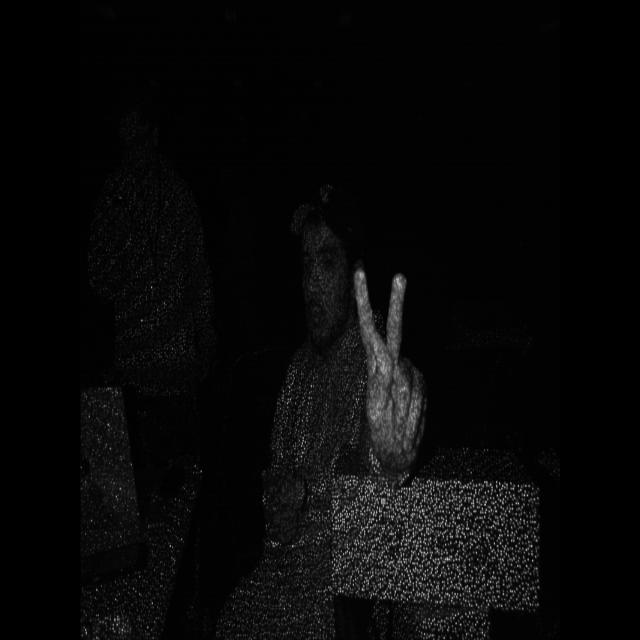K: (346, 253, 435, 472)
